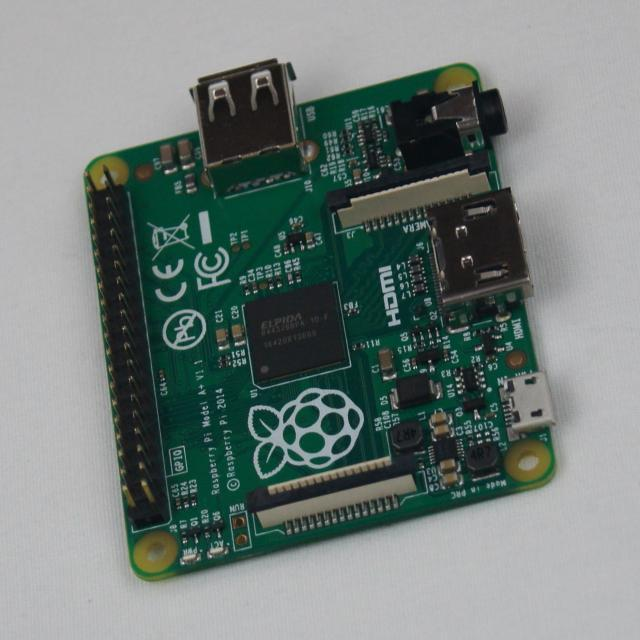Raspberry-Pi-1-A-: (86, 60, 555, 580)
